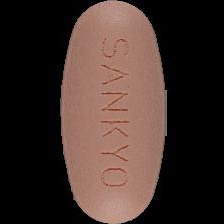55154-6129: (0, 0, 224, 224)
